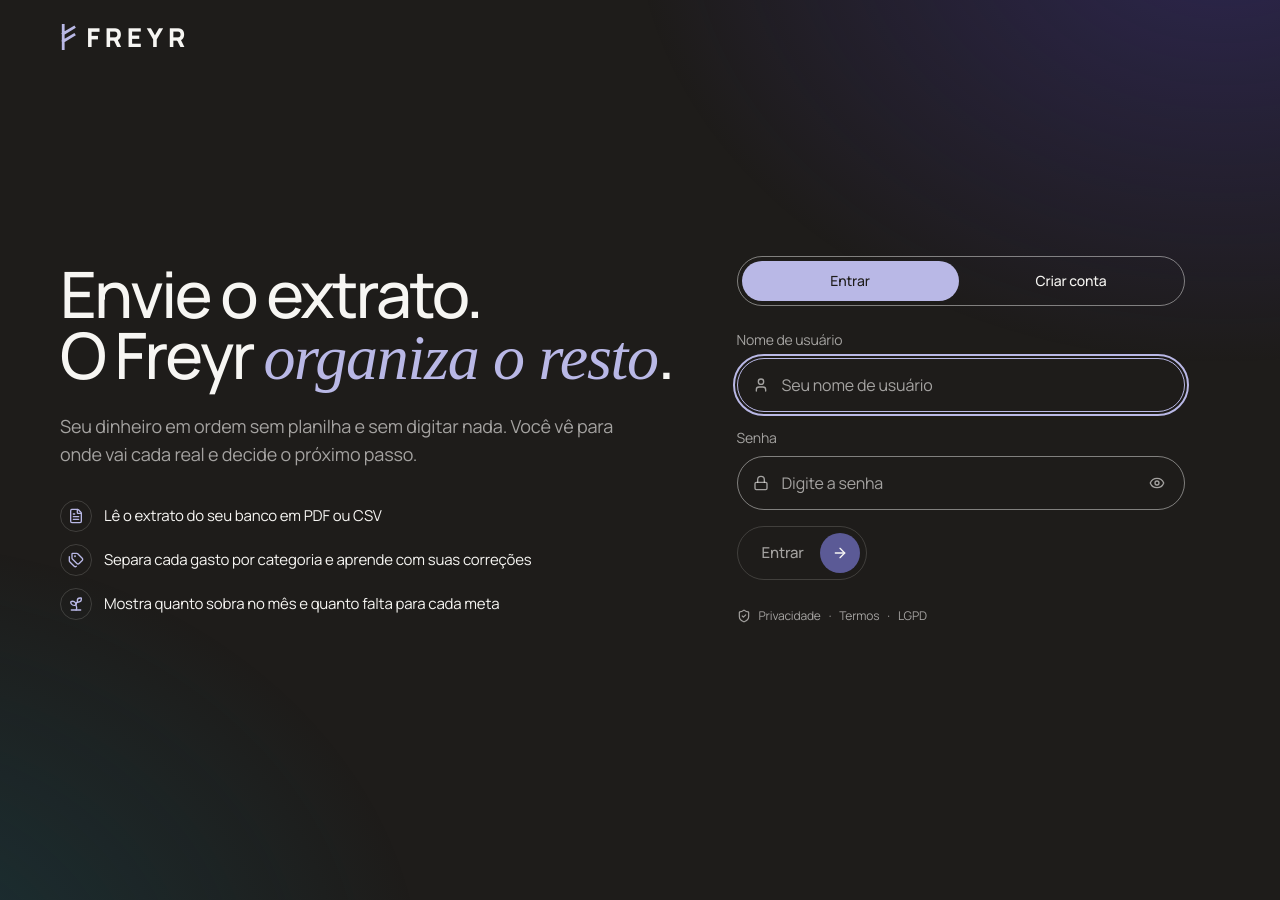
LoginScreen › asks new users to accept the terms and the privacy policy
Click the button "Criar conta": (1071, 281) 962,261 -> 1180,301
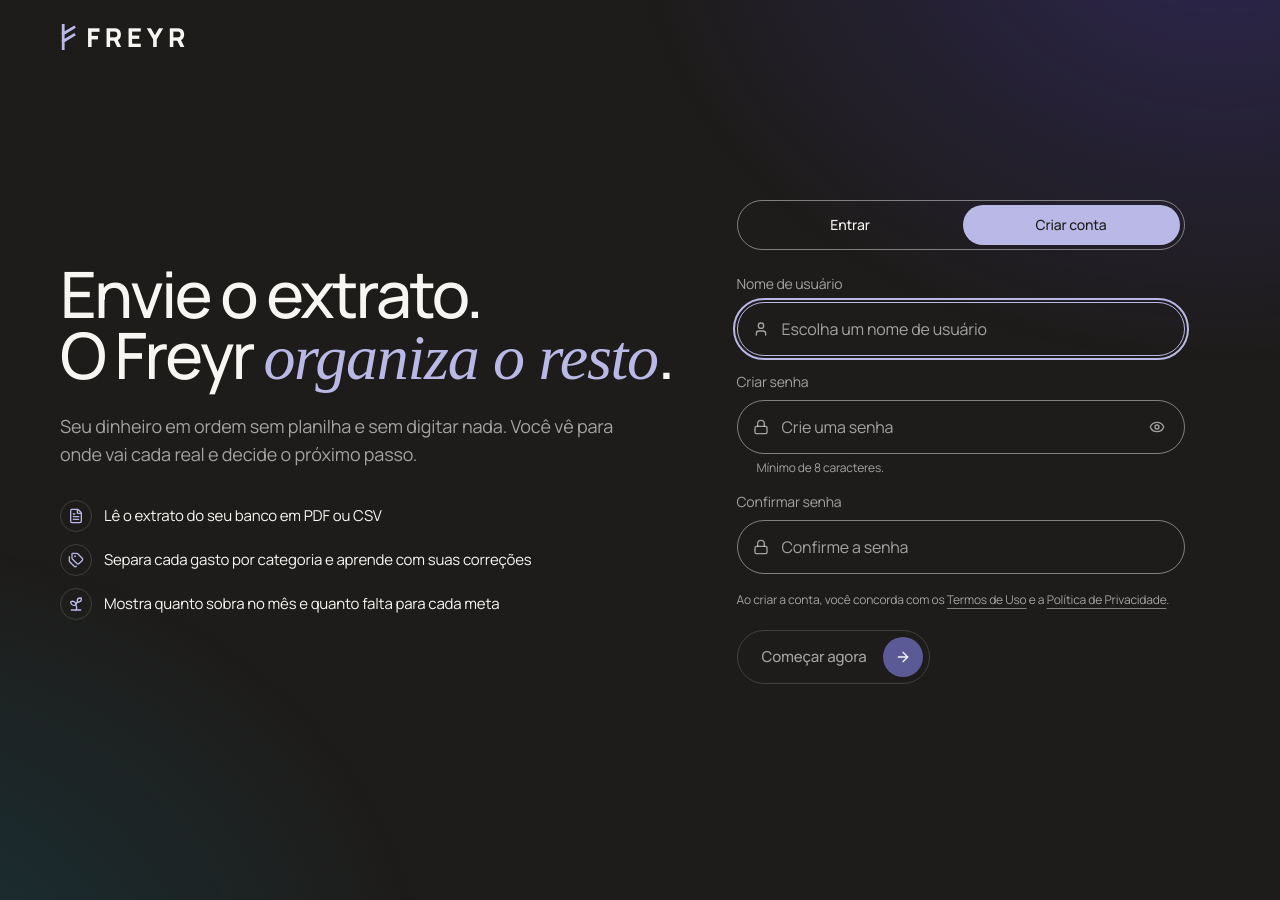
Result: the text "Ao criar a conta, você concorda" is shown at 736,591 -> 945,608
